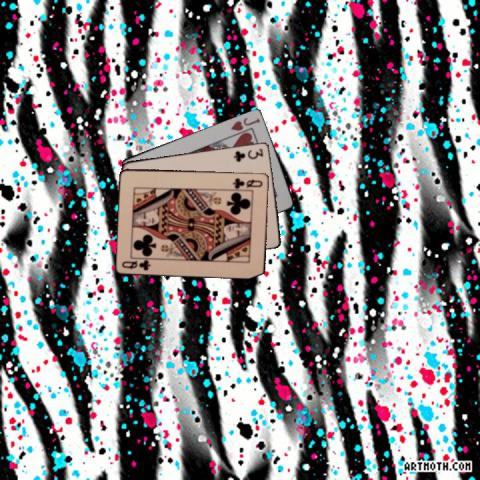3c: (230, 145, 264, 163)
Jh: (228, 114, 261, 132)
Qc: (230, 175, 264, 189), (119, 257, 152, 271)
